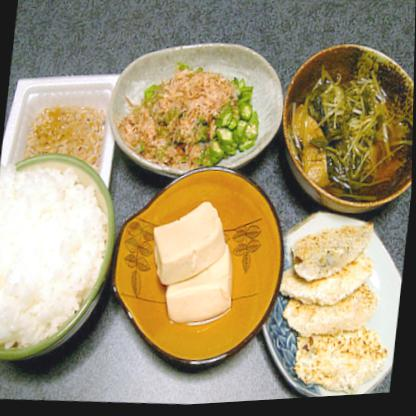rice ball: (0, 149, 115, 370)
